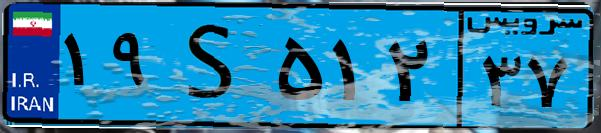1: (330, 28, 385, 110), (57, 26, 110, 100)
2: (385, 28, 445, 110)
3: (475, 38, 525, 113)
5: (270, 28, 330, 110)
7: (525, 38, 570, 115)
9: (110, 28, 158, 98)
S: (158, 12, 270, 120)
